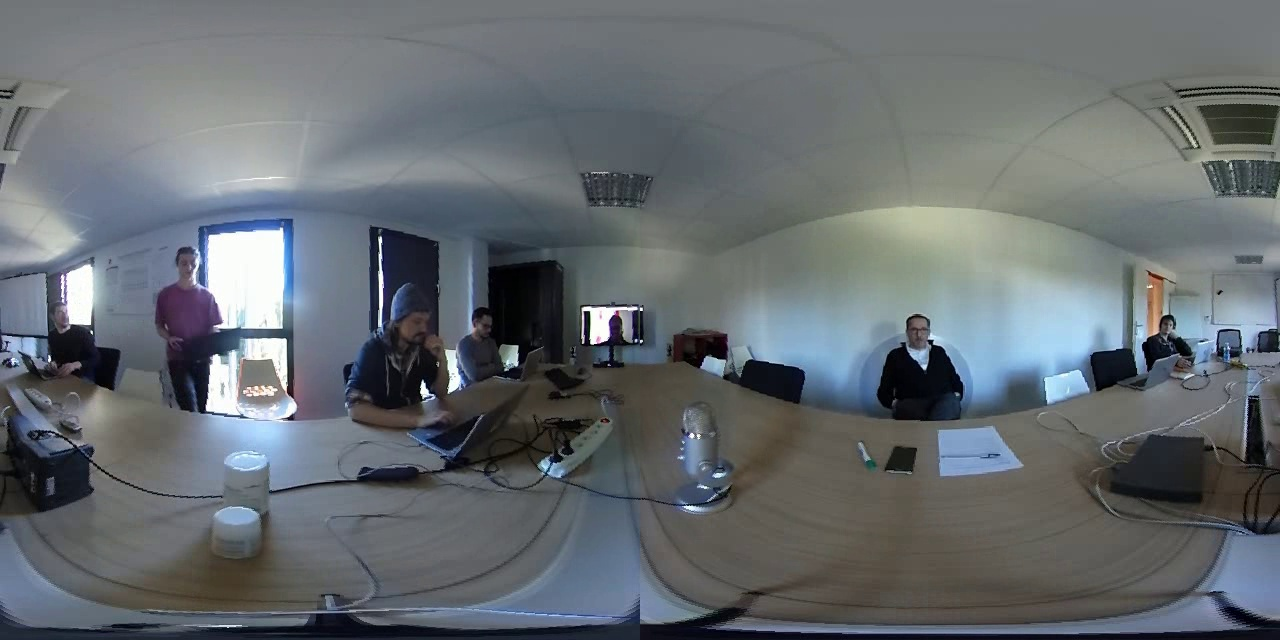person: (141, 225, 234, 389), (347, 268, 441, 422), (867, 303, 980, 421), (450, 285, 507, 382), (37, 297, 97, 380), (1140, 310, 1188, 362), (586, 309, 635, 343)
